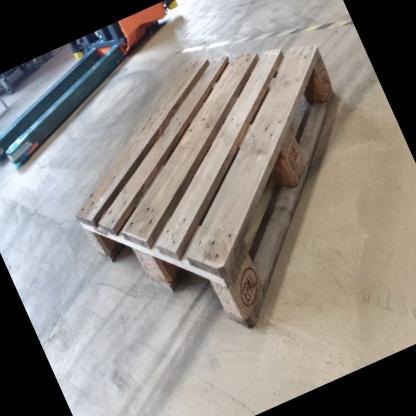BoxFace: (73, 41, 337, 334)
